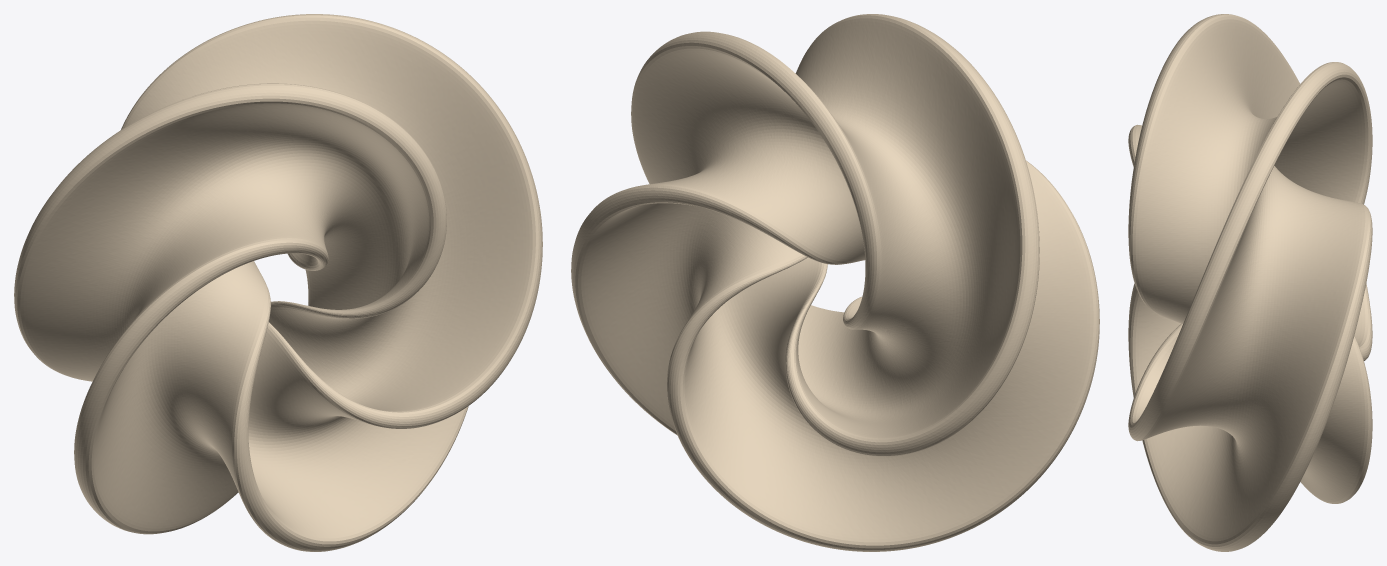
The picture shows the model from 3 angles, left to right: view 1: azimuth 30°, elevation 25°; view 2: azimuth 150°, elevation 25°; view 3: azimuth 270°, elevation 25°; orthographic projection. The views are drawn at different scales.
Parts seen in each view (by area): view 1: Shape_71; view 2: Shape_71; view 3: Shape_71.
Boxes of the visible parts, x1=… form: Shape_71: x1=14, y1=14, x2=542, y2=551; Shape_71: x1=571, y1=14, x2=1099, y2=551; Shape_71: x1=1128, y1=14, x2=1372, y2=551.
Bounding box in the file's own units: 91931 × 91931 × 44690.
